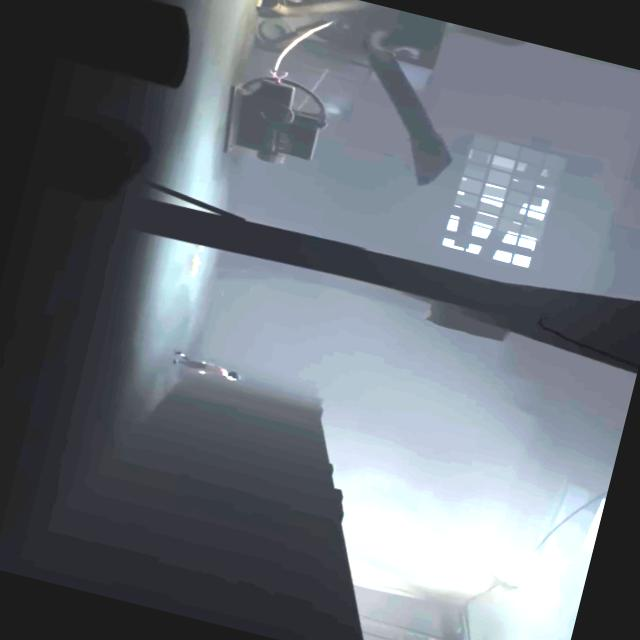boy: (168, 350, 241, 384)
